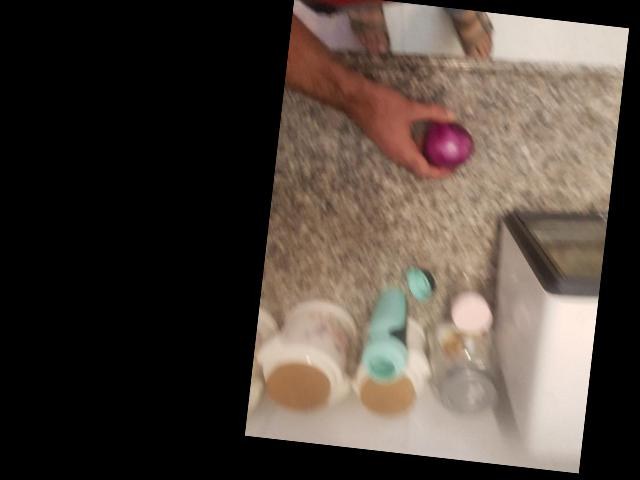onion: (541, 287, 598, 336)
